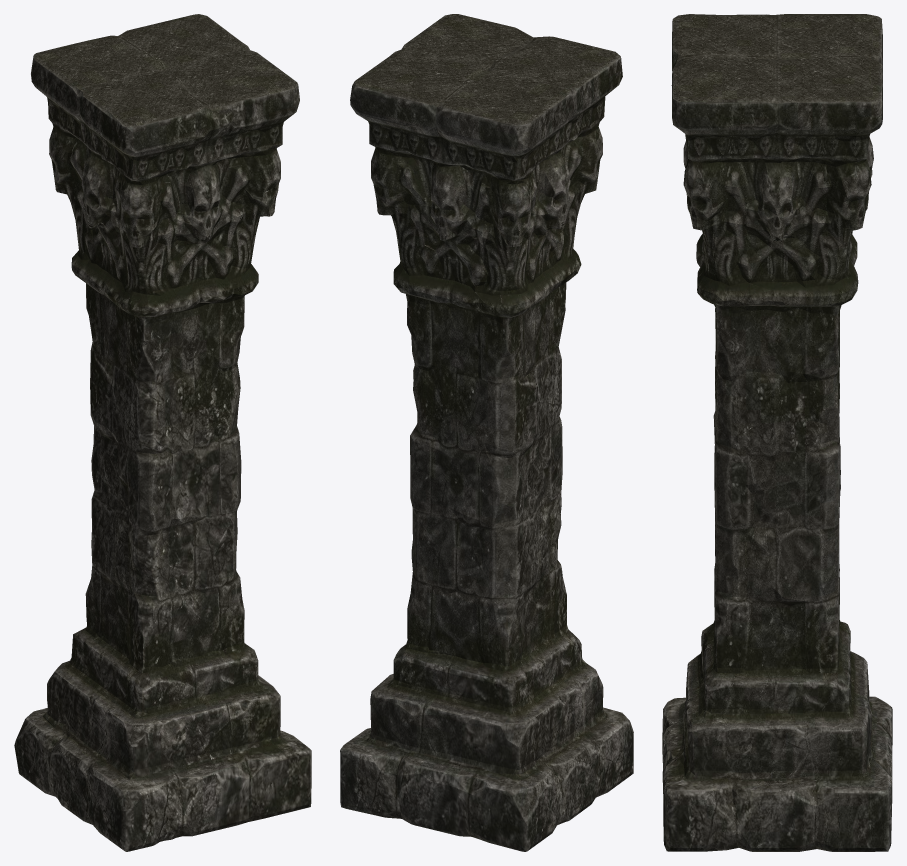
Rendered from pillar.glb.
The picture shows the model from 3 angles, left to right: view 1: azimuth 30°, elevation 25°; view 2: azimuth 150°, elevation 25°; view 3: azimuth 270°, elevation 25°; orthographic projection. The views are drawn at different scales.
Parts seen in each view (by area): view 1: lo; view 2: lo; view 3: lo.
Boxes of the visible parts, bbox=[...] form: lo: bbox=[14, 14, 311, 851]; lo: bbox=[340, 14, 633, 851]; lo: bbox=[662, 14, 892, 851].
Bounding box in the file's own units: 1.12 × 4 × 1.11.
1 material, 1 textured.
